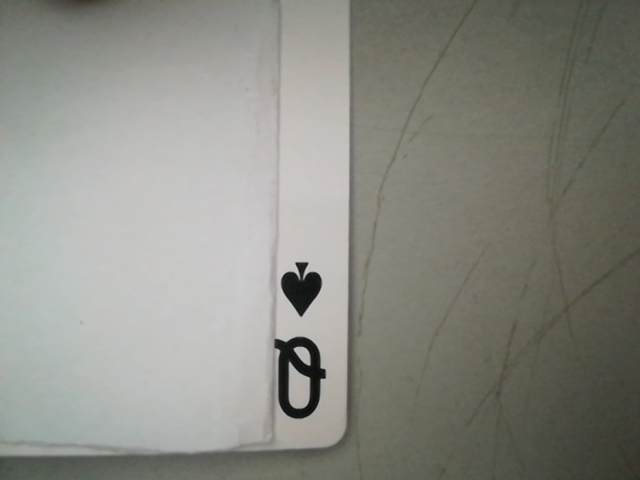ht q: (266, 254, 343, 437)
